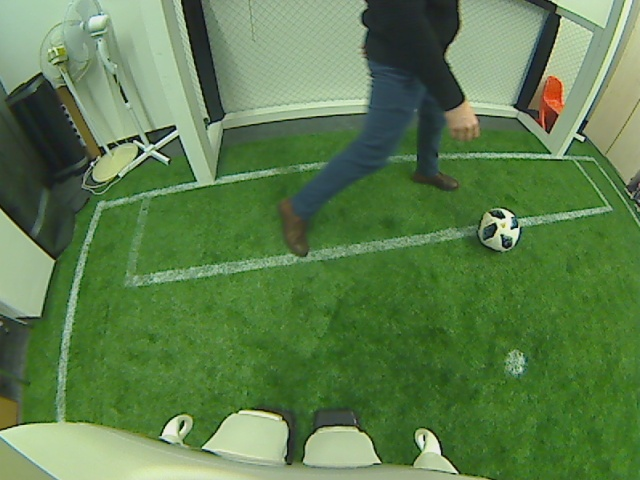ball: (475, 206, 522, 255)
